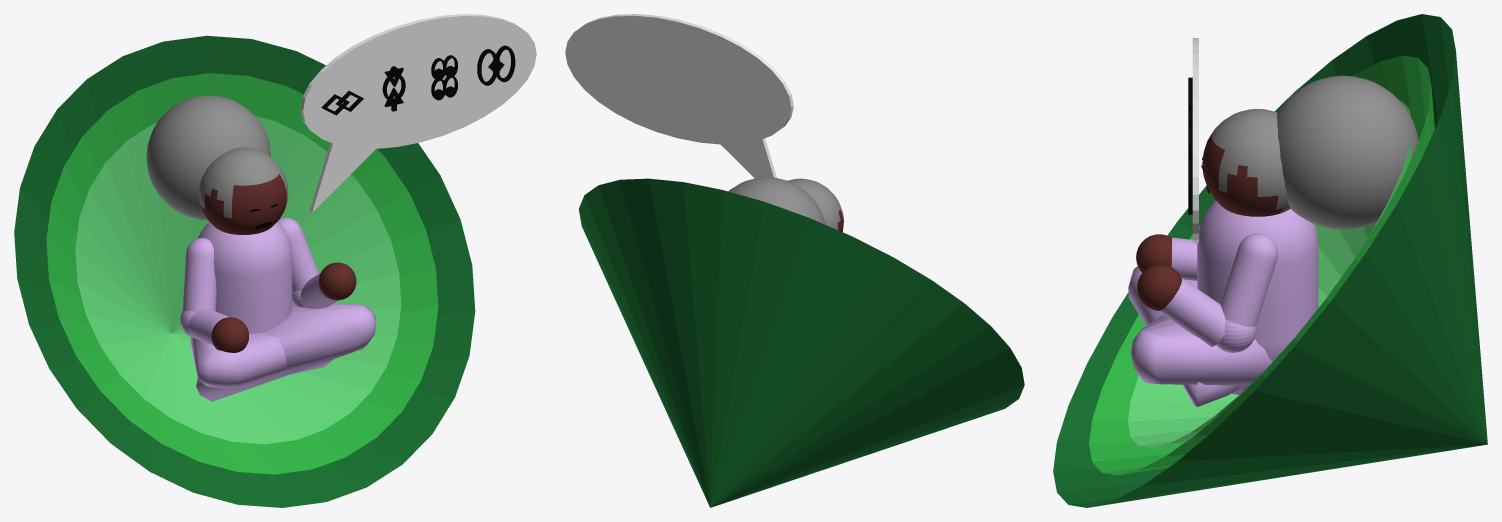
File: BSN_Education_Ani_Elder.gltf
3 views of the same model, side by side, from view 1: azimuth 30°, elevation 25°; view 2: azimuth 150°, elevation 25°; view 3: azimuth 270°, elevation 25° (orthographic). The views are drawn at different scales.
Visible parts, largest first — view 1: bgCone1, bgCone3, bgCone2, speechBubble, elderHair, elderBody, elderHead, elderLegL, elderLegR, elderUpperArmR, elderUpperArmL, elderHandL (+6 smaller); view 2: bgCone3, speechBubble, elderHair, elderHead; view 3: bgCone3, elderHair, bgCone2, elderBody, bgCone1, elderHead, elderLegL, elderUpperArmL, elderLowerArmL, elderLegR, elderHandL, speechBubble (+3 smaller).
Boxes of the visible parts, left/top/right/bottom form: bgCone1: left=75, top=116, right=401, bottom=444; bgCone3: left=14, top=35, right=475, bottom=507; bgCone2: left=46, top=73, right=438, bottom=474; speechBubble: left=300, top=14, right=536, bottom=212; elderHair: left=146, top=95, right=270, bottom=219; elderBody: left=198, top=222, right=292, bottom=333; elderHead: left=198, top=147, right=288, bottom=234; elderLegL: left=196, top=302, right=376, bottom=401; elderLegR: left=190, top=333, right=333, bottom=387; elderUpperArmR: left=182, top=238, right=216, bottom=311; elderUpperArmL: left=277, top=217, right=318, bottom=291; elderHandL: left=318, top=262, right=356, bottom=300; bgCone3: left=579, top=178, right=1024, bottom=507; speechBubble: left=565, top=14, right=793, bottom=178; elderHair: left=728, top=177, right=825, bottom=224; elderHead: left=787, top=178, right=843, bottom=231; bgCone3: left=1053, top=14, right=1487, bottom=507; elderHair: left=1277, top=75, right=1418, bottom=229; bgCone2: left=1089, top=55, right=1434, bottom=475; elderBody: left=1197, top=200, right=1318, bottom=394; bgCone1: left=1128, top=100, right=1411, bottom=447; elderHead: left=1202, top=108, right=1290, bottom=216; elderLegL: left=1130, top=314, right=1272, bottom=385; elderUpperArmL: left=1220, top=233, right=1277, bottom=327; elderLowerArmL: left=1159, top=278, right=1225, bottom=347; elderLegR: left=1128, top=266, right=1238, bottom=406; elderHandL: left=1137, top=264, right=1181, bottom=310; speechBubble: left=1192, top=38, right=1198, bottom=242.
Bounding box in the file's own units: 17.57 × 13.98 × 11.11.
